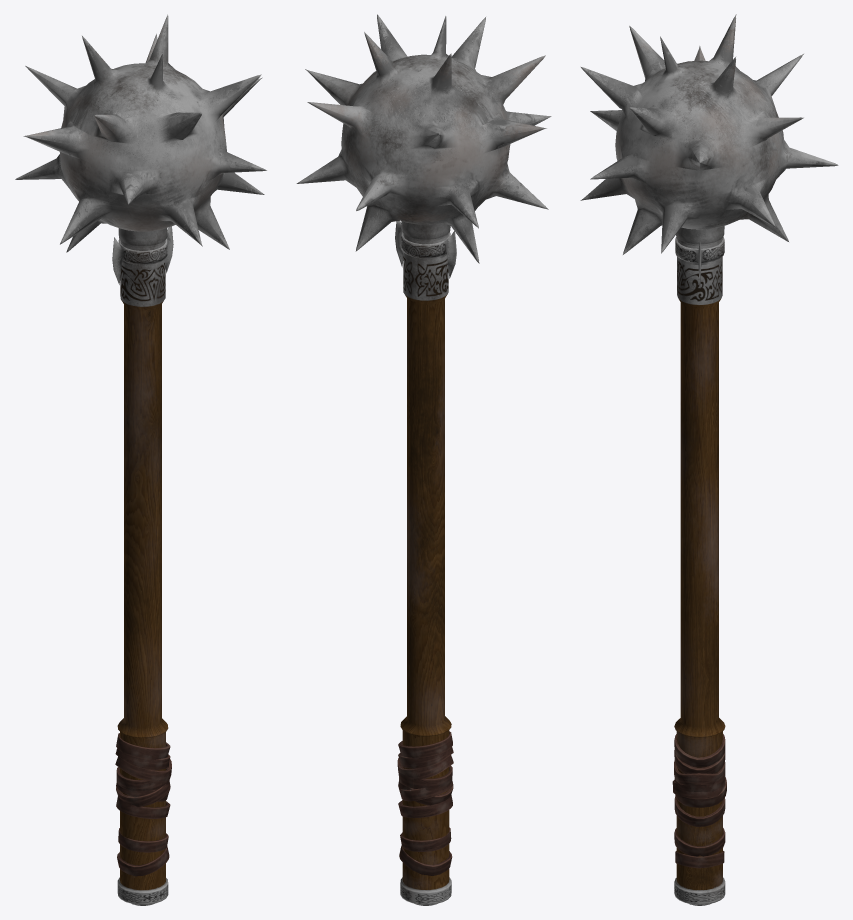
File: MAce 1.fbx
3 views of the same model, side by side, from view 1: azimuth 30°, elevation 25°; view 2: azimuth 150°, elevation 25°; view 3: azimuth 270°, elevation 25° (orthographic).
Parts seen in each view (by area): view 1: Mace; view 2: Mace; view 3: Mace.
Part boxes in pixels (<box>): Mace: <box>15,14,266,905</box>; Mace: <box>296,14,551,905</box>; Mace: <box>580,14,838,905</box>.
Size of the model in its own units: 21.9 by 75.28 by 20.37.
